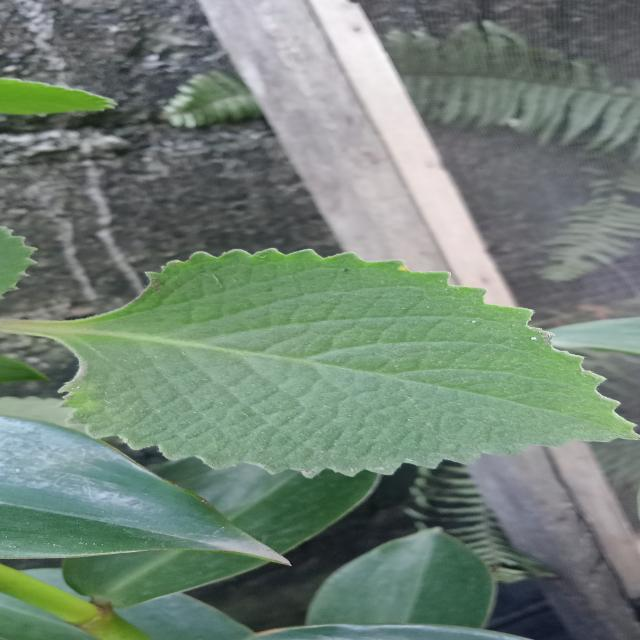Oregano: (52, 235, 640, 512)
